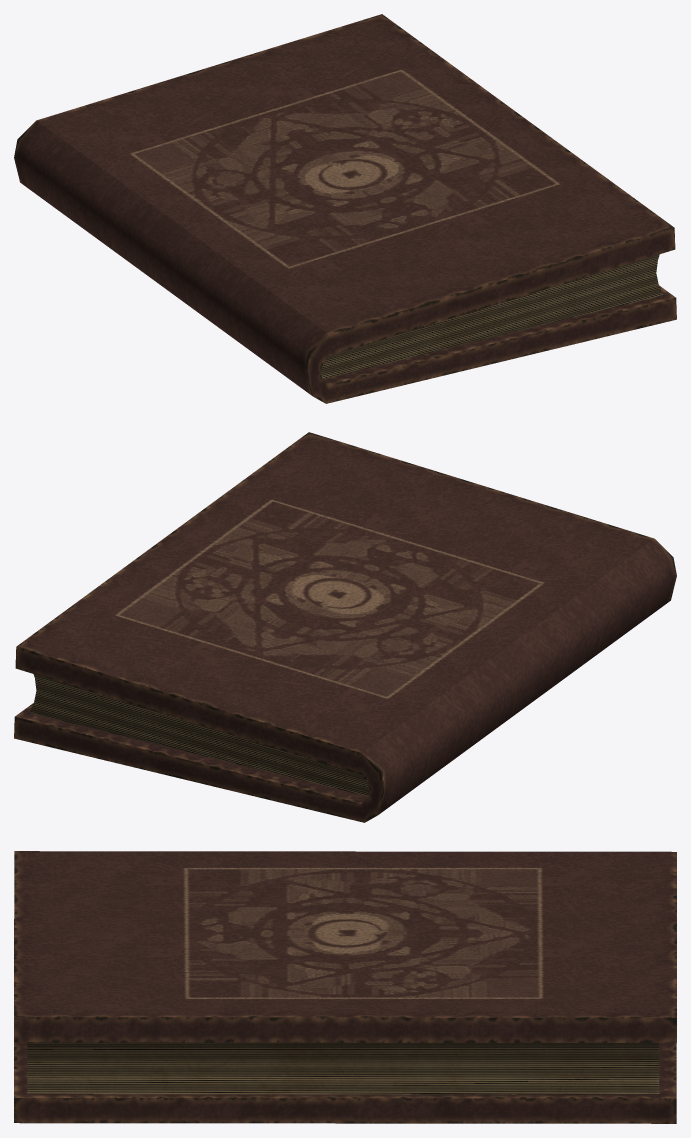
The model's file is alchemists_manual.glb.
The picture shows the model from 3 angles, top to bottom: view 1: azimuth 30°, elevation 25°; view 2: azimuth 150°, elevation 25°; view 3: azimuth 270°, elevation 25°; orthographic projection. The views are drawn at different scales.
Visible parts, largest first — view 1: polySurface2, pCube7; view 2: polySurface2, pCube7; view 3: polySurface2, pCube7.
Part boxes in pixels (bbox=[...]): polySurface2: bbox=[14, 14, 676, 403]; pCube7: bbox=[321, 254, 663, 378]; polySurface2: bbox=[14, 432, 676, 822]; pCube7: bbox=[29, 674, 369, 796]; polySurface2: bbox=[14, 851, 676, 1123]; pCube7: bbox=[27, 1042, 659, 1094].
Bounding box in the file's own units: 0.0107 × 0.00256 × 0.0146.
2 materials, 2 textured.
